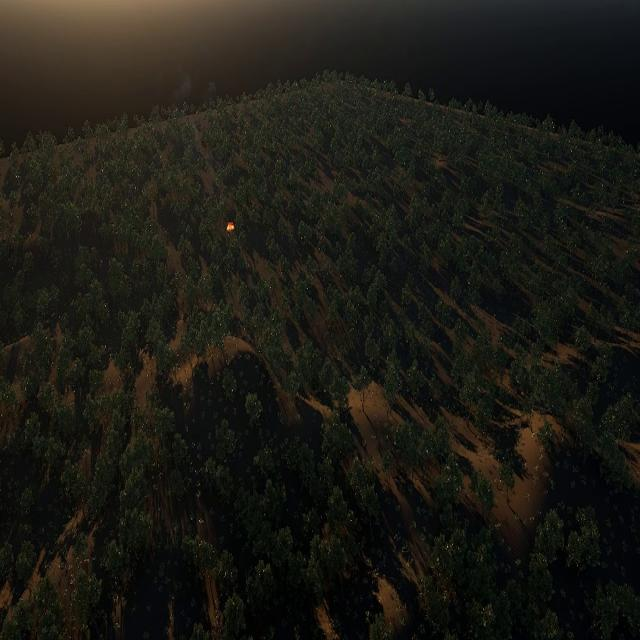fire: (225, 221, 234, 232)
